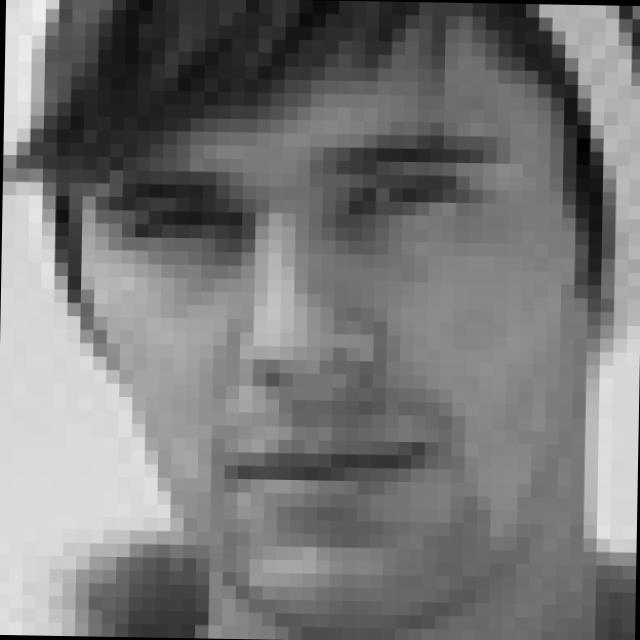neutral: (86, 119, 517, 542)
